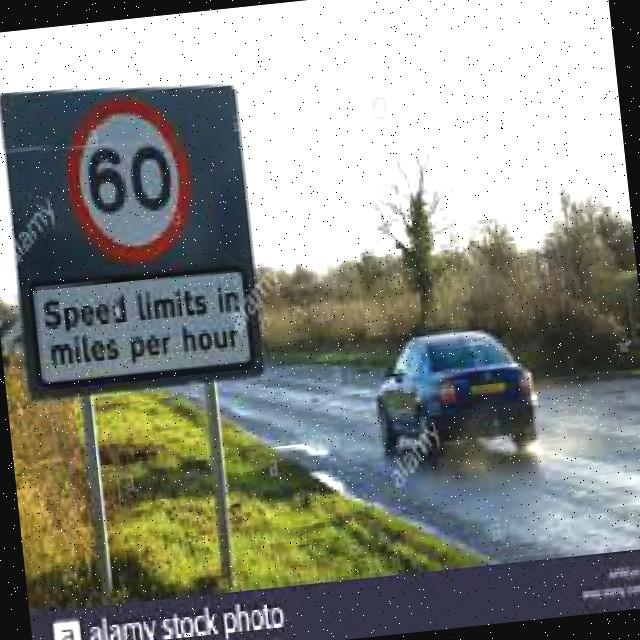Ograniczenie predkosci do 60: (62, 89, 198, 272)
